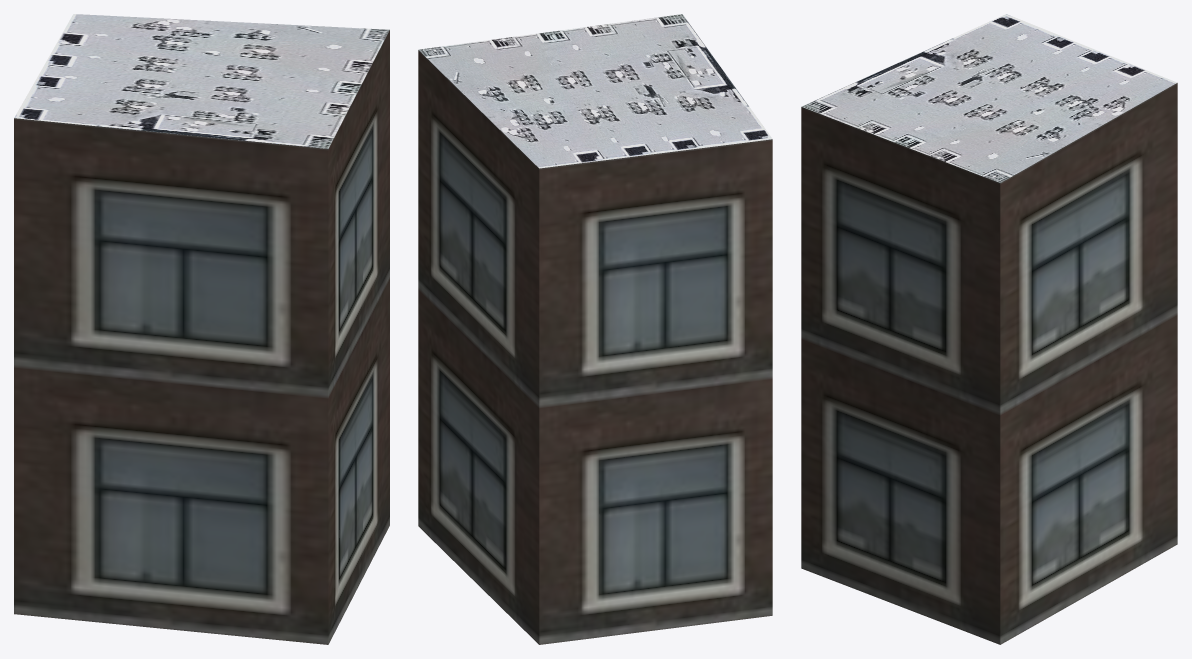
Rendered from ResTex__285.fbx.
3 renders of one model, left to right at view 1: azimuth 30°, elevation 25°; view 2: azimuth 150°, elevation 25°; view 3: azimuth 270°, elevation 25°, orthographic. The views are drawn at different scales.
Visible parts, largest first — view 1: CityEngineMaterial_16_m, CityEngineMaterial_15_m; view 2: CityEngineMaterial_16_m, CityEngineMaterial_15_m; view 3: CityEngineMaterial_16_m, CityEngineMaterial_15_m.
Boxes of the visible parts, bbox=[...] form: CityEngineMaterial_16_m: bbox=[14, 30, 389, 644]; CityEngineMaterial_15_m: bbox=[14, 14, 389, 148]; CityEngineMaterial_16_m: bbox=[418, 50, 772, 644]; CityEngineMaterial_15_m: bbox=[418, 14, 772, 168]; CityEngineMaterial_16_m: bbox=[801, 83, 1177, 644]; CityEngineMaterial_15_m: bbox=[802, 14, 1177, 182].
Bounding box in the file's own units: 4.72 × 6 × 4.43.
2 materials, 2 textured.
